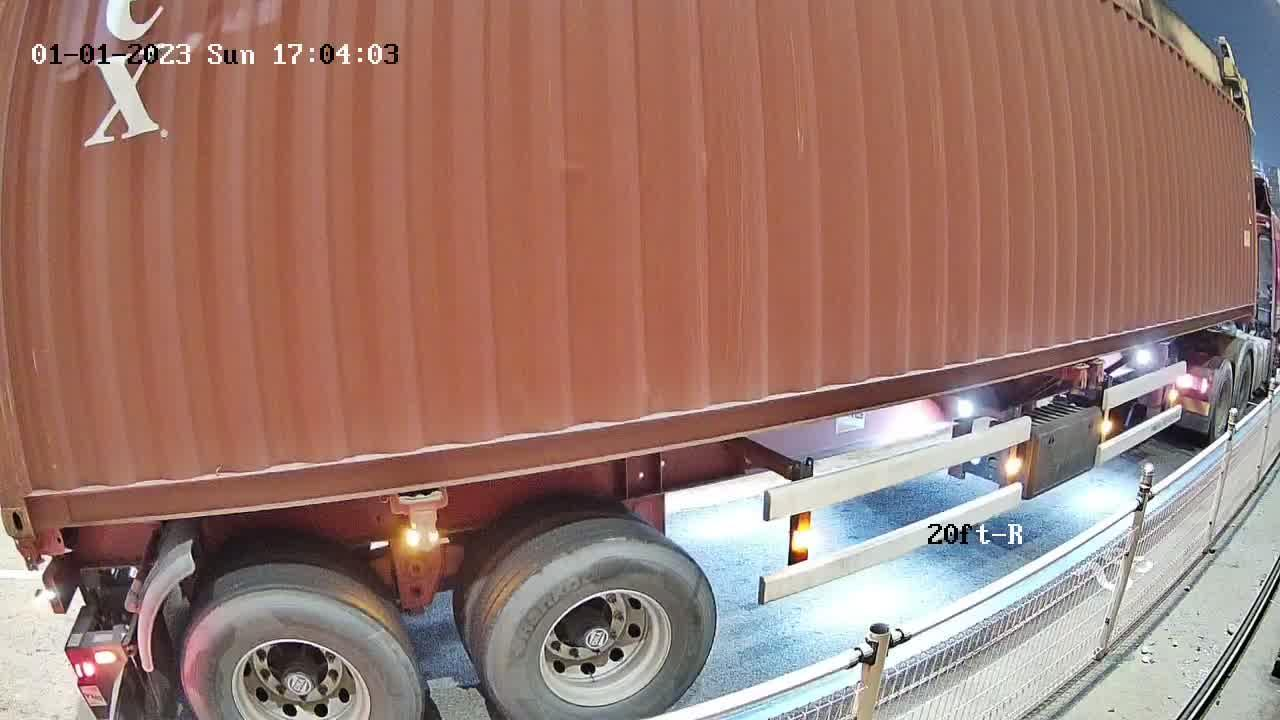Cone: (11, 534, 52, 575)
Hole_L: (0, 441, 84, 539)
Tire: (486, 539, 717, 716), (183, 591, 423, 718)
